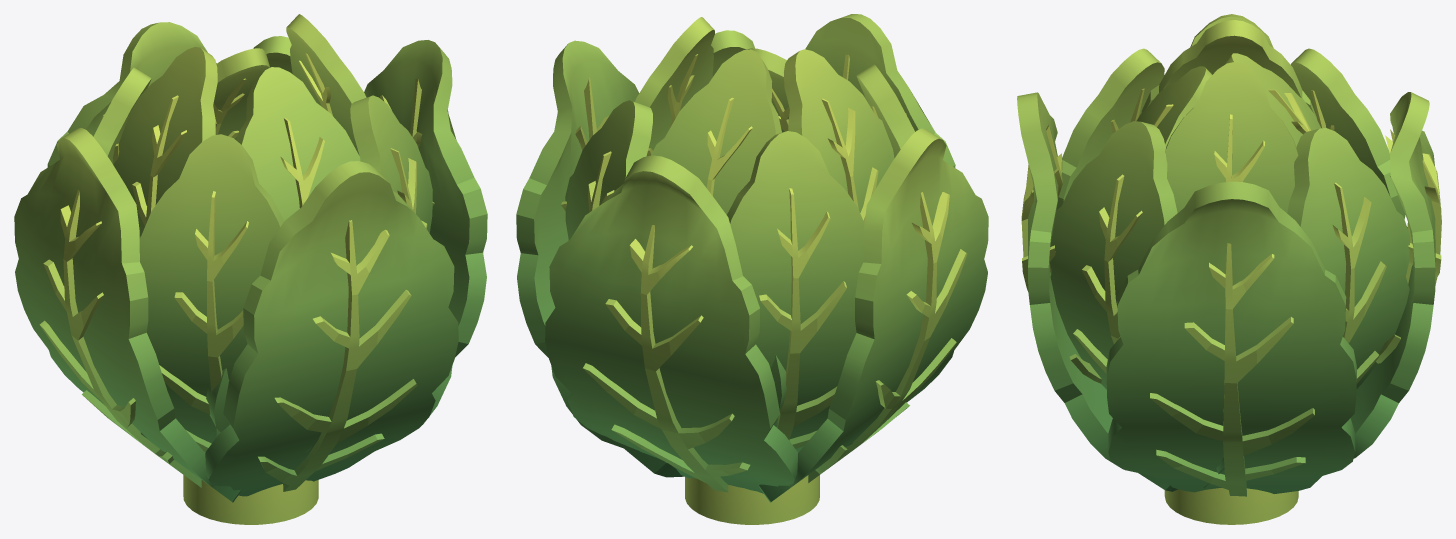
Rendered from lettuce.fbx.
3 renders of one model, left to right at view 1: azimuth 30°, elevation 25°; view 2: azimuth 150°, elevation 25°; view 3: azimuth 270°, elevation 25°, orthographic.
Parts seen in each view (by area): view 1: lettuce1; view 2: lettuce1; view 3: lettuce1.
Boxes of the visible parts, bbox=[...] form: lettuce1: bbox=[14, 14, 487, 524]; lettuce1: bbox=[516, 14, 988, 524]; lettuce1: bbox=[1017, 14, 1441, 524].
Bounding box in the file's own units: 28.76 × 33.93 × 28.37.
